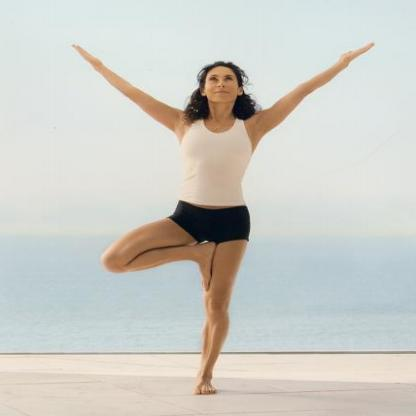tree: (26, 36, 385, 402)
